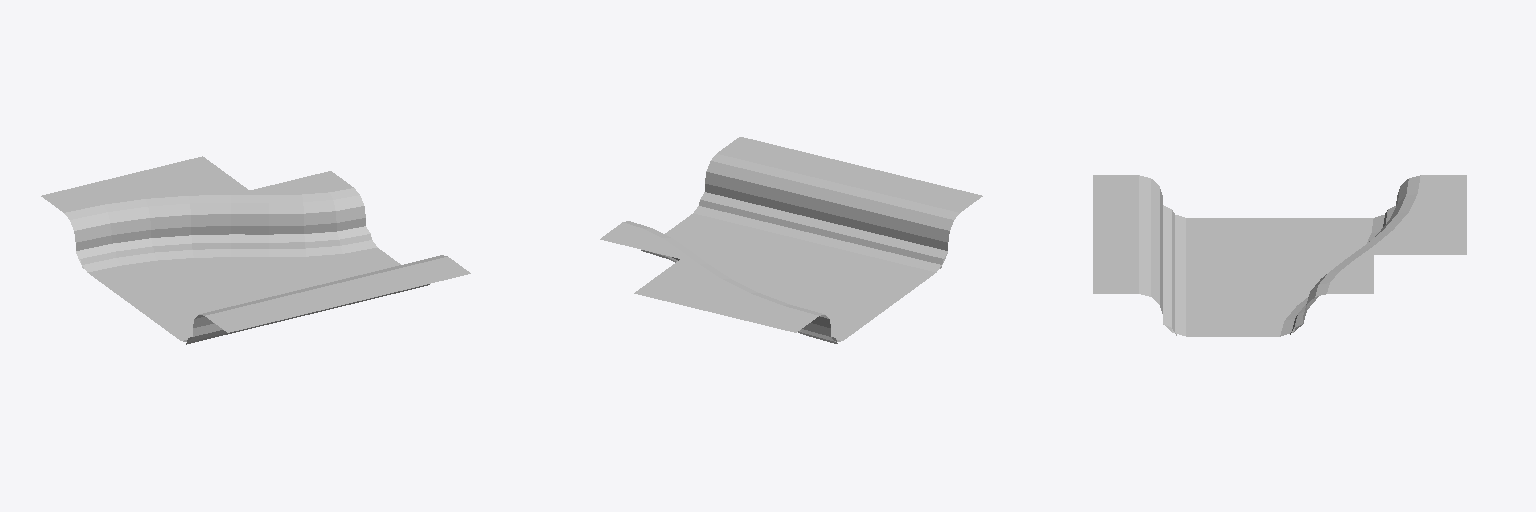
Rendered from Track_Striped_Straight_Widening.obj.
3 views of the same model, side by side, from view 1: azimuth 30°, elevation 25°; view 2: azimuth 150°, elevation 25°; view 3: azimuth 270°, elevation 25° (orthographic).
Visible parts, largest first — view 1: Grass, Dirt, Raceline_Color_2, Raceline_Color_1; view 2: Grass, Dirt, Raceline_Color_2, Raceline_Color_1; view 3: Dirt, Grass, Raceline_Color_2, Raceline_Color_1.
Part boxes in pixels (x1,y1,x2,y2): Grass: (41, 156, 470, 336); Dirt: (76, 240, 400, 341); Raceline_Color_2: (76, 232, 388, 344); Raceline_Color_1: (112, 226, 429, 334); Grass: (600, 137, 982, 336); Dirt: (652, 206, 947, 341); Raceline_Color_2: (669, 202, 947, 343); Raceline_Color_1: (641, 192, 907, 334); Dirt: (1163, 215, 1384, 336); Grass: (1093, 175, 1466, 323); Raceline_Color_2: (1163, 205, 1395, 313); Raceline_Color_1: (1163, 225, 1304, 335).
Bounding box in the file's own units: 3 × 0.5 × 4.